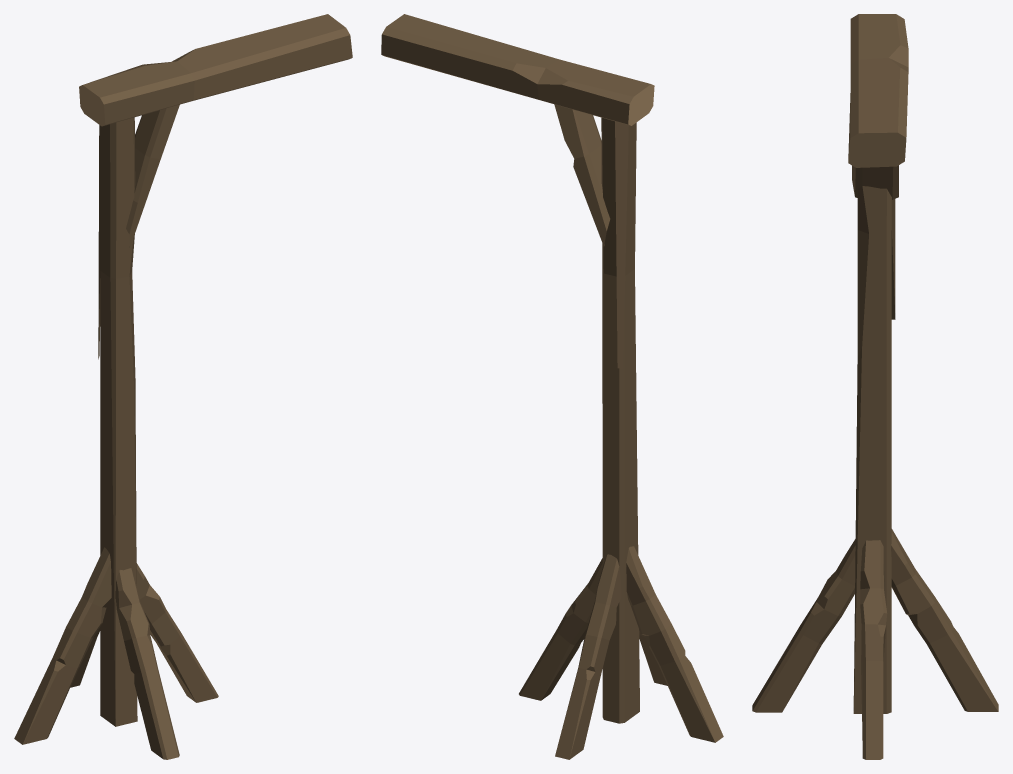
File: WF_LP_HT_Environment_Holder.002.fbx
3 views of the same model, side by side, from view 1: azimuth 30°, elevation 25°; view 2: azimuth 150°, elevation 25°; view 3: azimuth 270°, elevation 25° (orthographic). The views are drawn at different scales.
Visible parts, largest first — view 1: WF_LP_HT_Environment_Holder.002; view 2: WF_LP_HT_Environment_Holder.002; view 3: WF_LP_HT_Environment_Holder.002.
Boxes of the visible parts, x1,y1,x2,y2 form: WF_LP_HT_Environment_Holder.002: (14,14,352,759); WF_LP_HT_Environment_Holder.002: (381,14,723,759); WF_LP_HT_Environment_Holder.002: (752,14,998,759).
Bounding box in the file's own units: 0.8214 × 1.56 × 0.5012.
